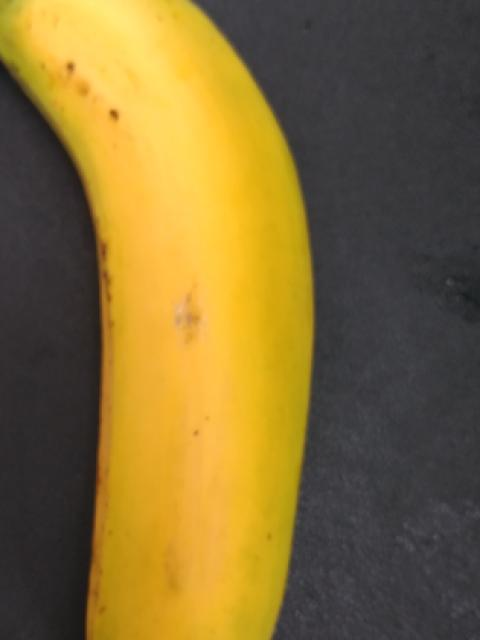freshripe: (0, 0, 352, 639)
